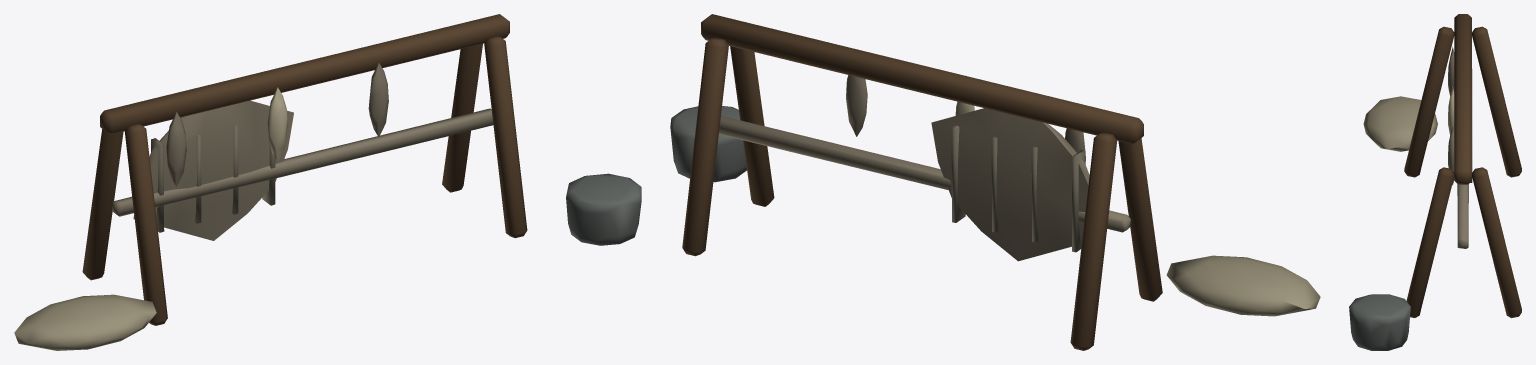
File: fish_rack_b_lod1.glb
3 views of the same model, side by side, from view 1: azimuth 30°, elevation 25°; view 2: azimuth 150°, elevation 25°; view 3: azimuth 270°, elevation 25° (orthographic). The views are drawn at different scales.
Parts seen in each view (by area): view 1: Surface.001; view 2: Surface.001; view 3: Surface.001.
Boxes of the visible parts, x1,y1,x2,y2 form: Surface.001: [14, 14, 641, 350]; Surface.001: [670, 14, 1320, 350]; Surface.001: [1349, 14, 1521, 350].
Bounding box in the file's own units: 5.39 × 1.64 × 1.66.
